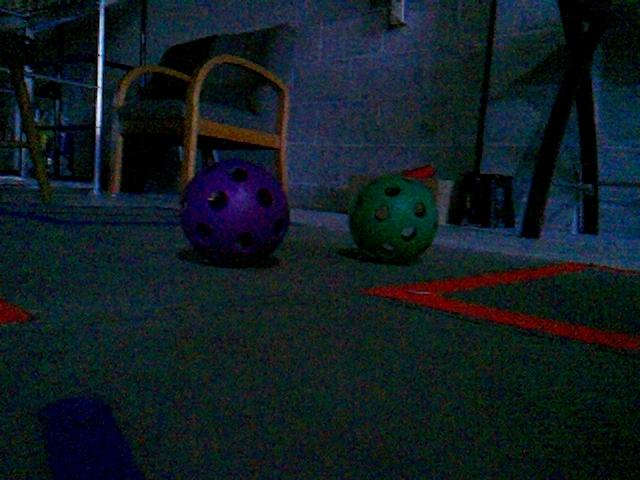Green: (348, 174, 440, 262)
Purple: (177, 161, 288, 263)
